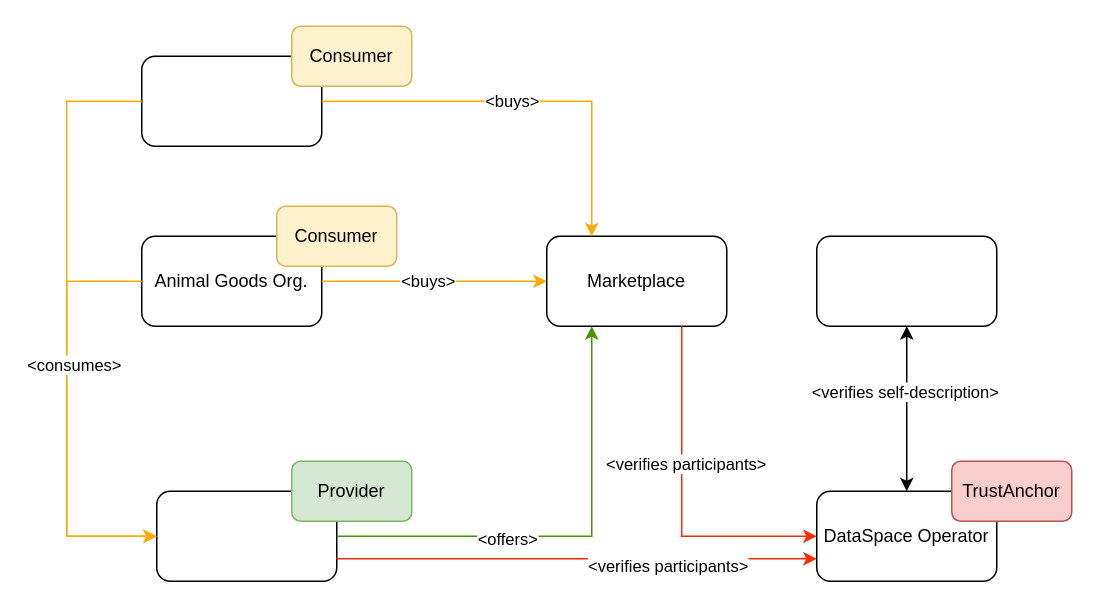
Image size: 1098x608. Some labels were removed from this diagram. Here are the shapes that lost their labels. From the top down, the box of each, then its label:
(140, 55, 322, 146): HappyPets Inc.
(815, 235, 997, 326): Gaia-X
(155, 490, 337, 581): Packet Delivery Co.
